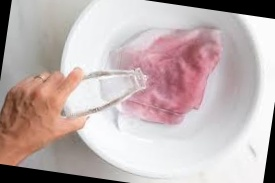wine: (109, 22, 218, 131)
